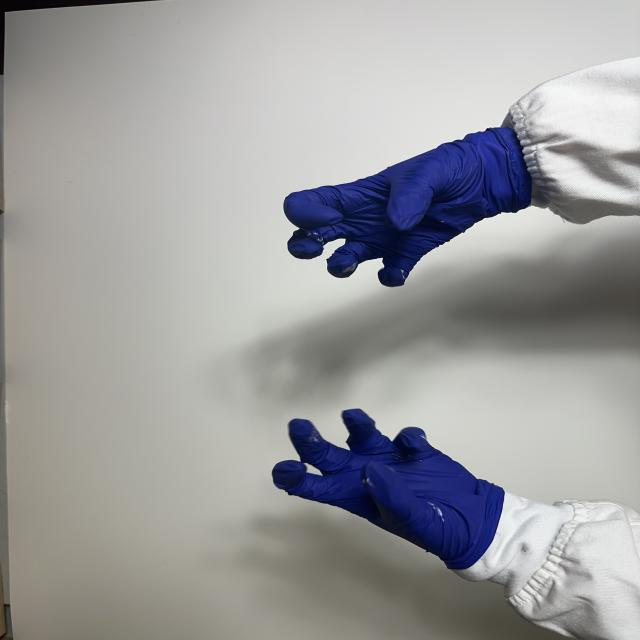gloves_contaminated: (284, 130, 532, 286), (273, 410, 504, 569)
